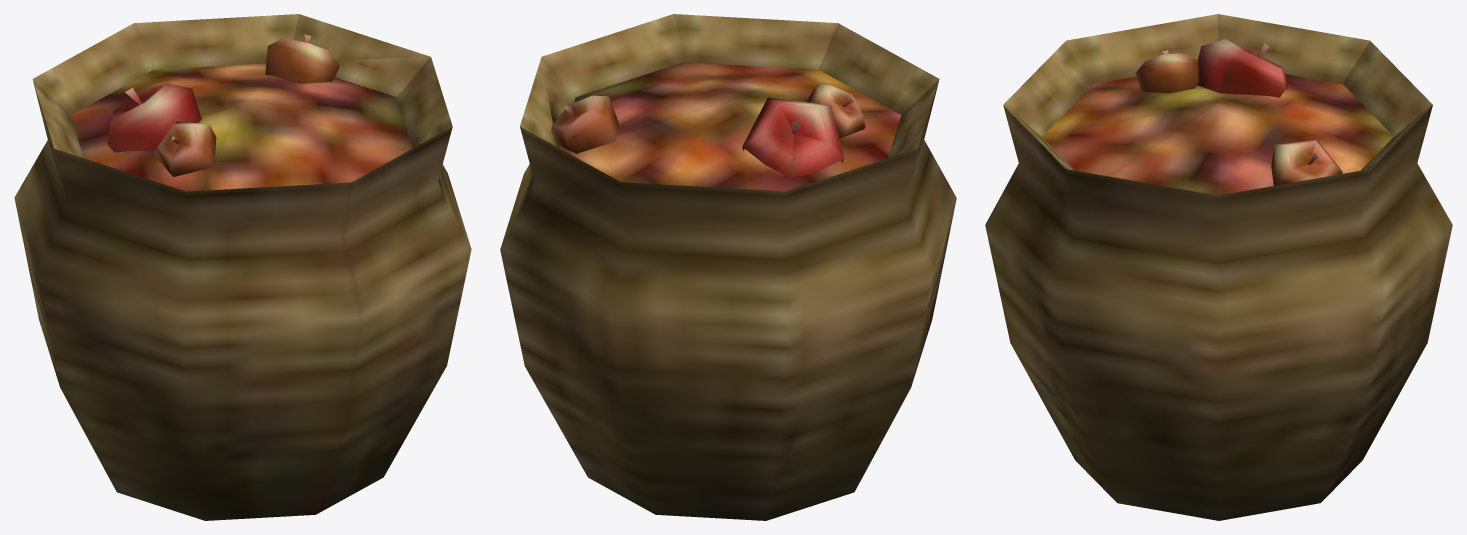
Rendered from GYMA00038_03.FBX.
3 views of the same model, side by side, from view 1: azimuth 30°, elevation 25°; view 2: azimuth 150°, elevation 25°; view 3: azimuth 270°, elevation 25° (orthographic).
Parts seen in each view (by area): view 1: MA00038_03; view 2: MA00038_03; view 3: MA00038_03.
Part boxes in pixels (left/top/right/bottom): MA00038_03: left=14, top=14, right=471, bottom=520; MA00038_03: left=500, top=14, right=956, bottom=520; MA00038_03: left=985, top=14, right=1452, bottom=520.
Size of the model in its own units: 1.18 by 1.06 by 1.18.
